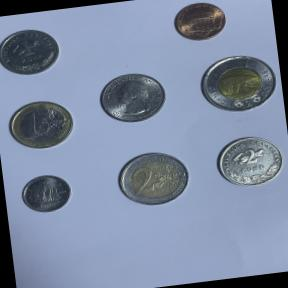coin: (194, 50, 282, 119), (113, 146, 197, 211), (210, 129, 288, 192), (96, 68, 172, 129), (2, 96, 79, 156), (16, 169, 78, 217), (170, 0, 231, 46)
